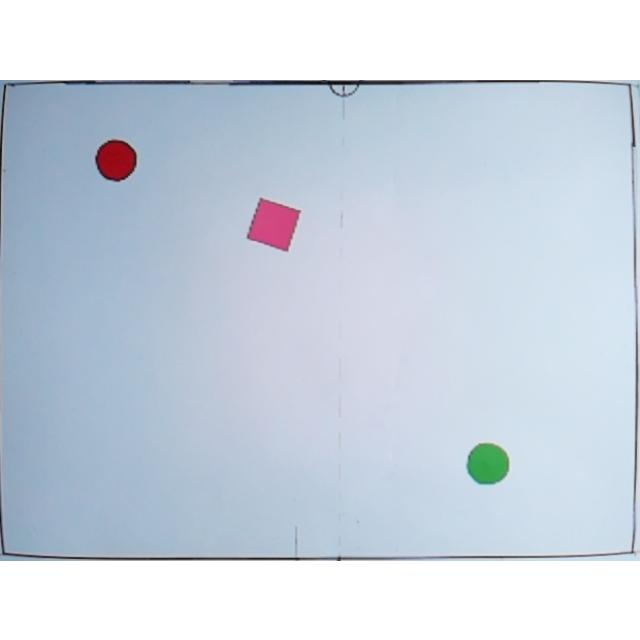greenCircle: (466, 441, 512, 485)
pinkSquare: (246, 195, 304, 253)
redCircle: (96, 136, 138, 182)
